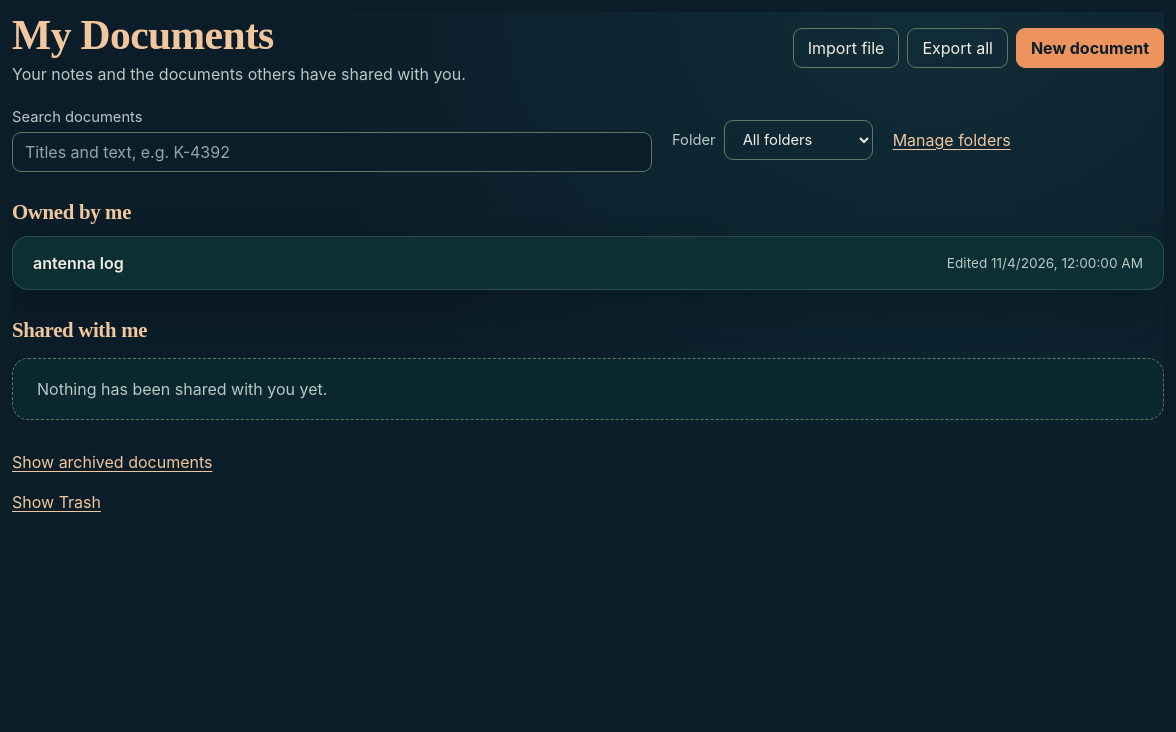
Test case: Search (DOC-017) › ignores a response for a query the user has already changed
This screenshot has width=1176, height=732.
Type "old" into the search field labelled "Search documents" at (332, 152), box [12,132,652,172]
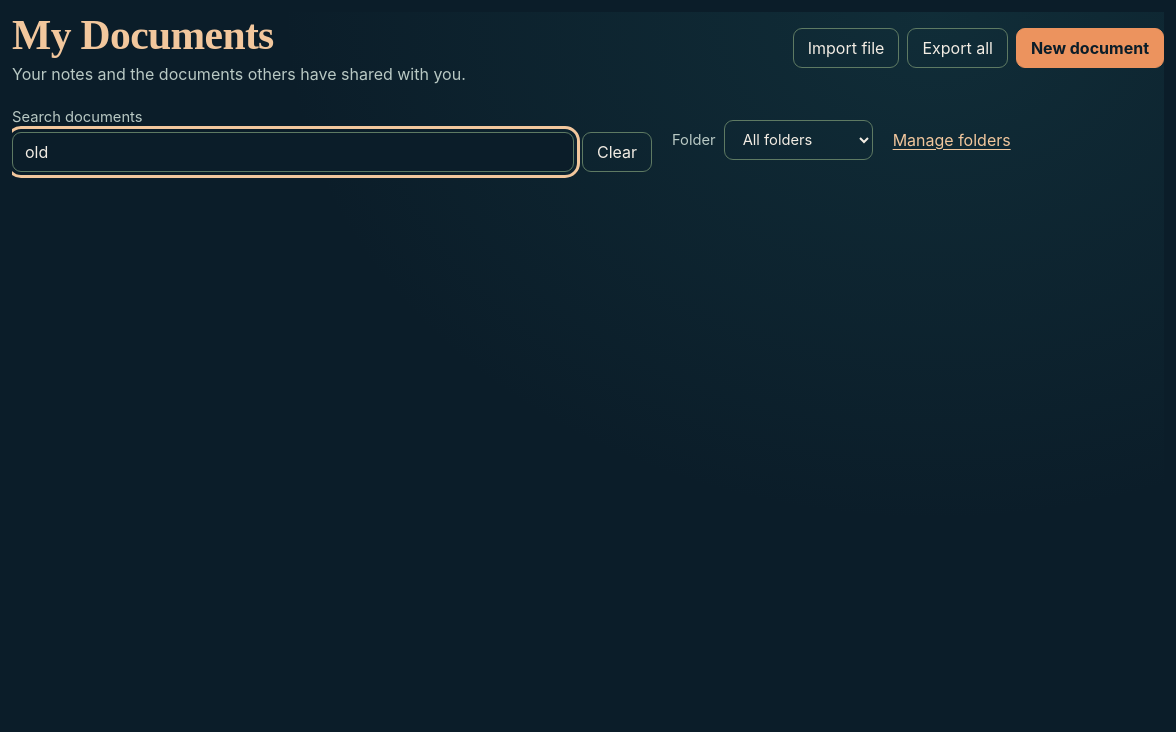
Clear the search field labelled "Search documents" at (293, 152), box [12,132,574,172]
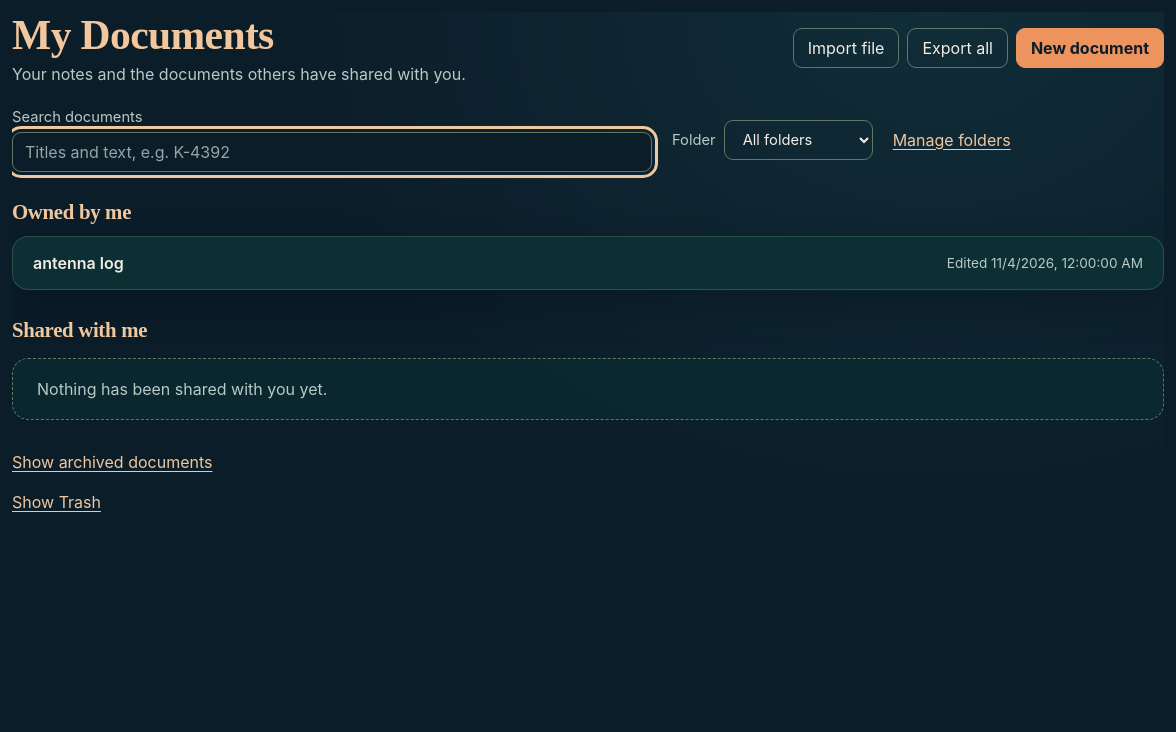
Type "new" into the search field labelled "Search documents" at (332, 152), box [12,132,652,172]
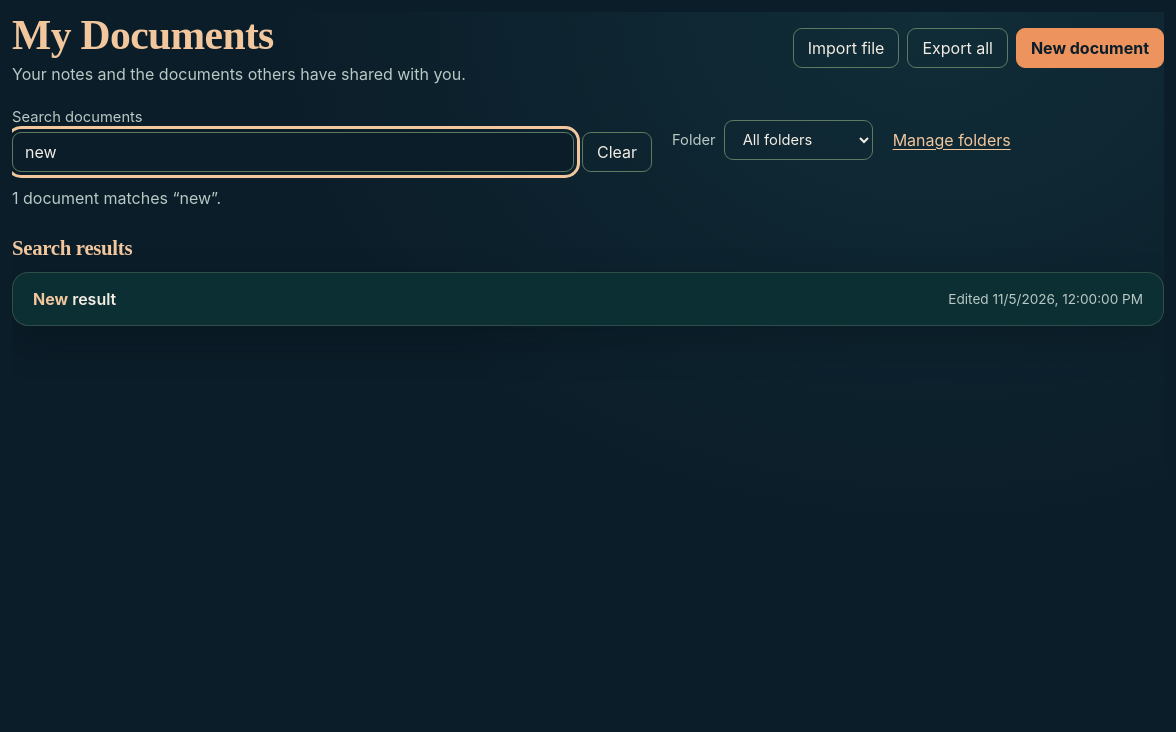
Check: the link "New result" is shown, box [33,289,116,309]
Check: the message reads "1 document matches “new”.", box [12,188,221,208]
